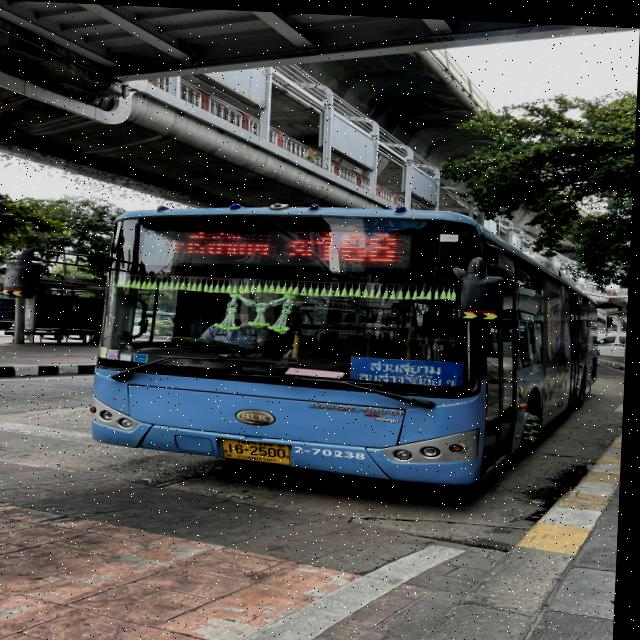BMTA-bus: (93, 204, 602, 485)
Bus Line Number: (314, 220, 407, 265)
Bus Side Number: (294, 437, 377, 460)
Destination Sign: (353, 353, 472, 385)
